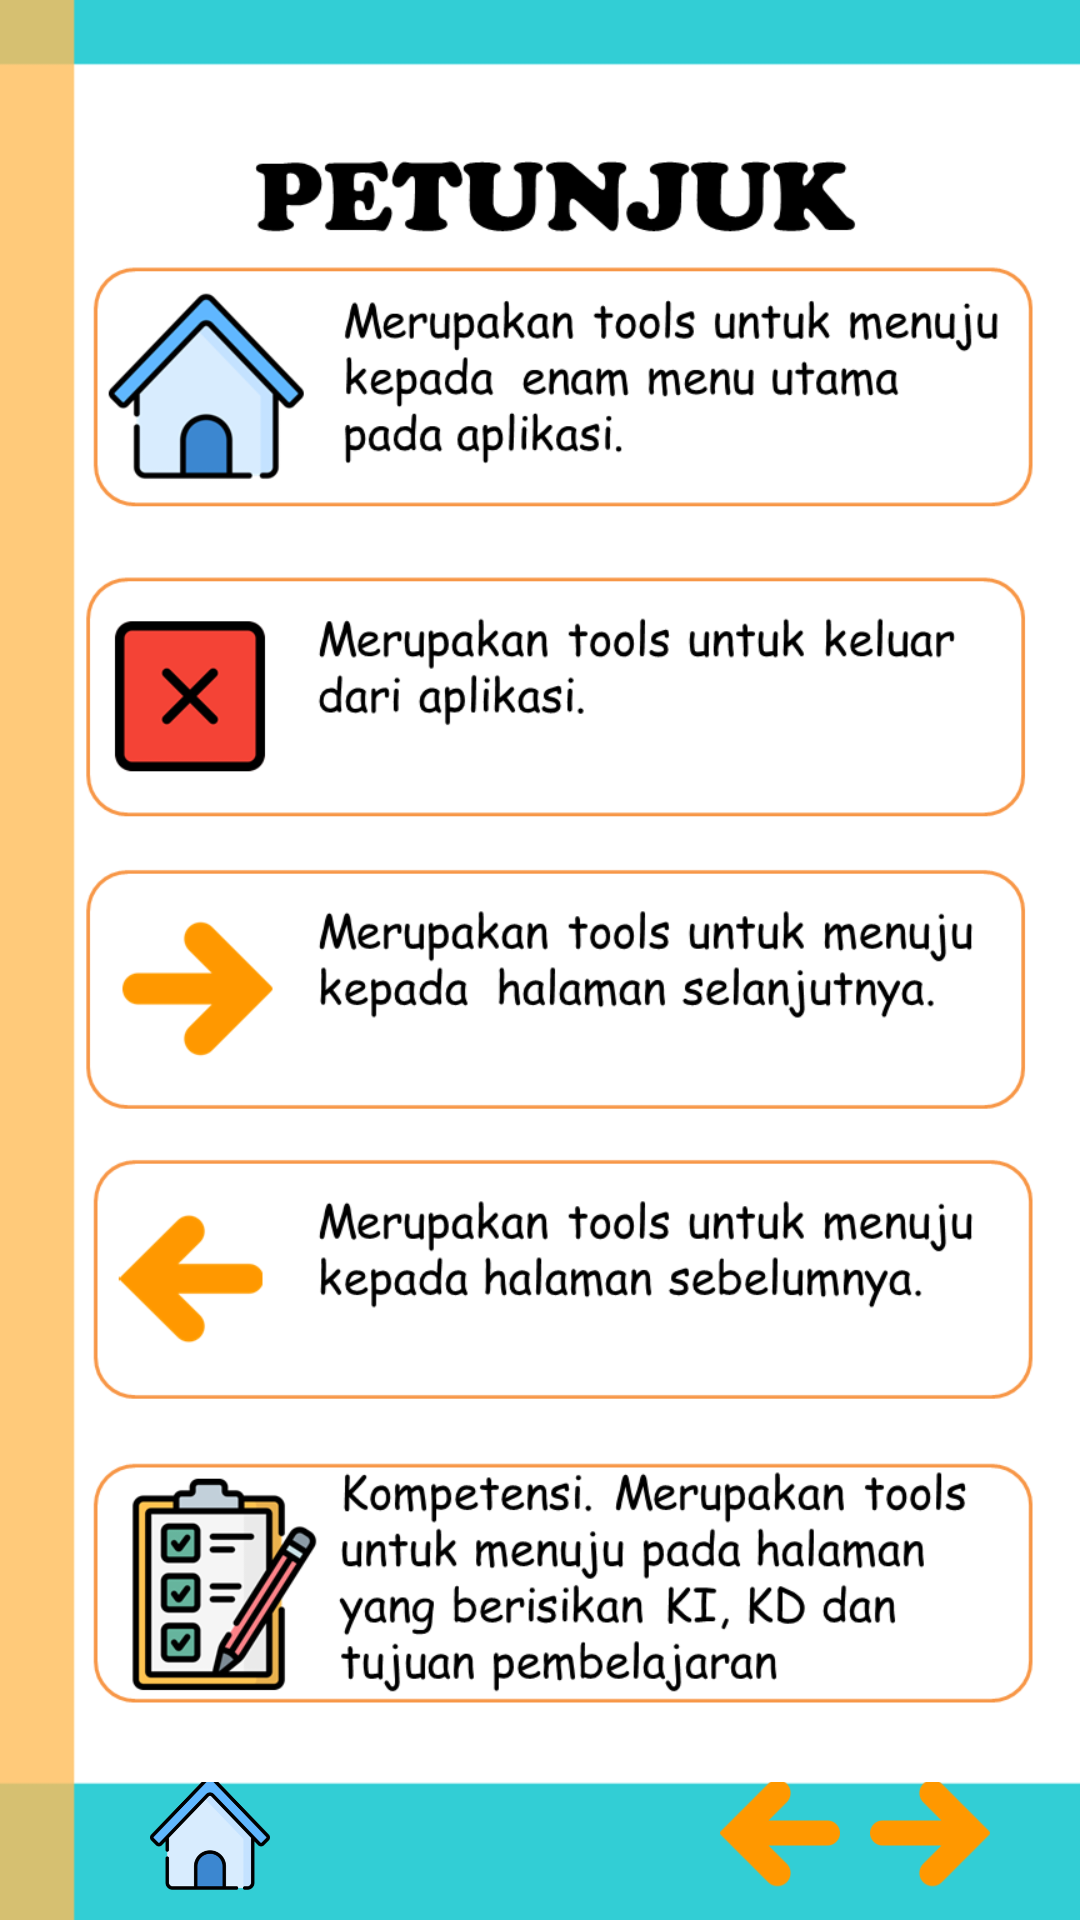

Icons on this 1080×1920 Android screen, each with the point to tap as [x,y]:
home: [210,1836]
next: [930,1834]
prev: [780,1834]
